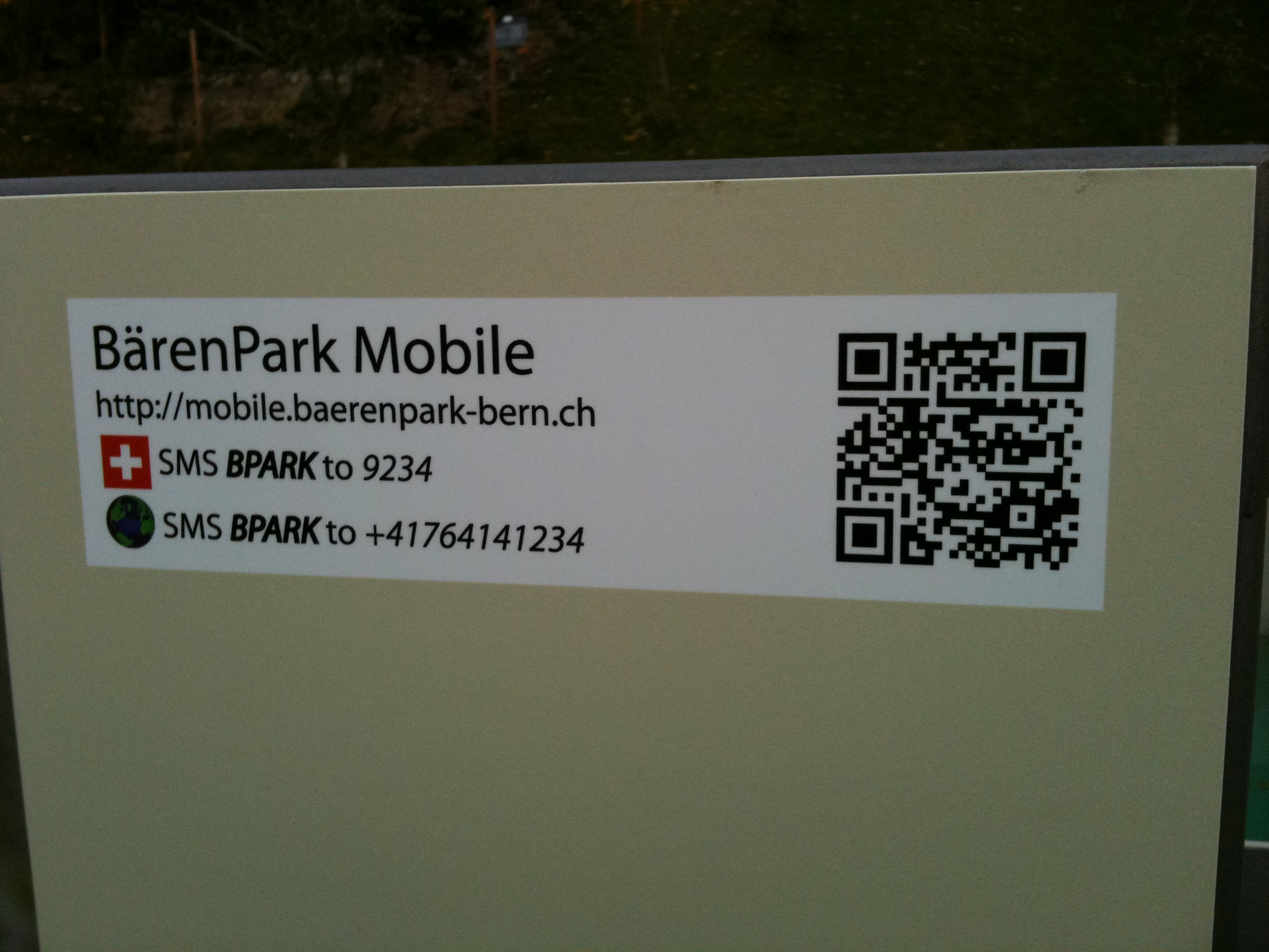QR-CODE: (836, 333, 1085, 571)
